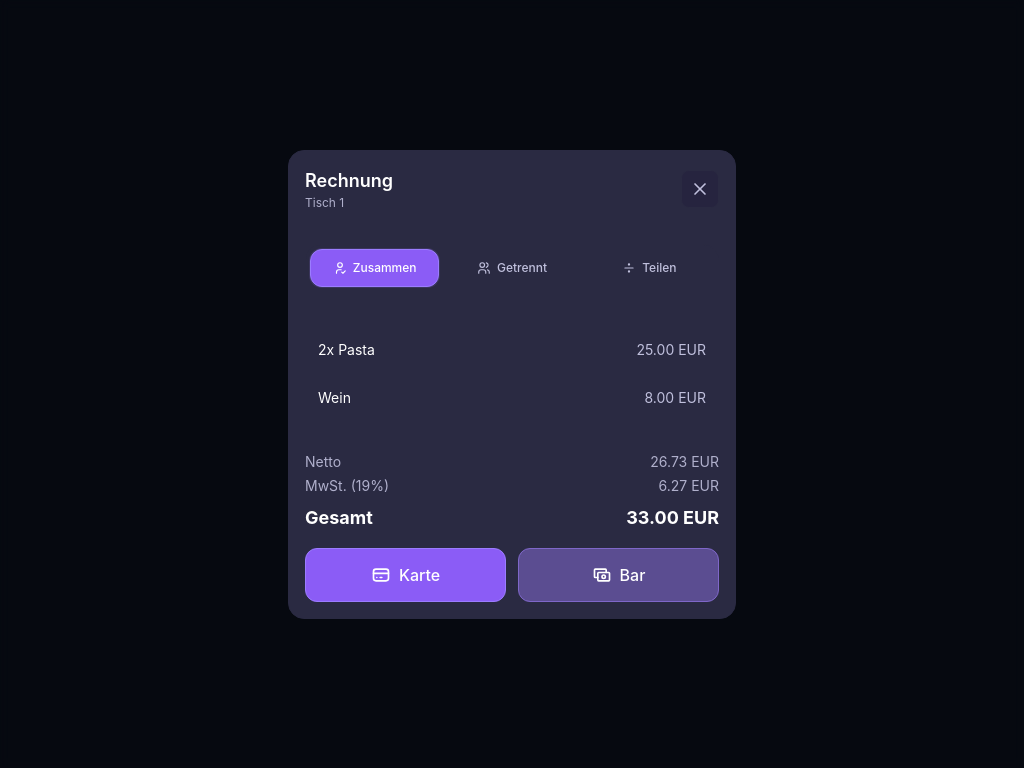
Scenario 1 — Combined Billing (full order → card payment → close) › 10% tip preset calculates correctly: 33.00 × 10% = 3.30 EUR
The width and height of the screenshot is (1024, 768).
Expected: the text "33.00 EUR" is shown, top-left (626, 504), bottom-right (719, 532)
What coordinates should you click on to do the following:
click the button "Karte"
I would click on:
 (406, 574)
Its box is top-left (305, 548), bottom-right (506, 602).
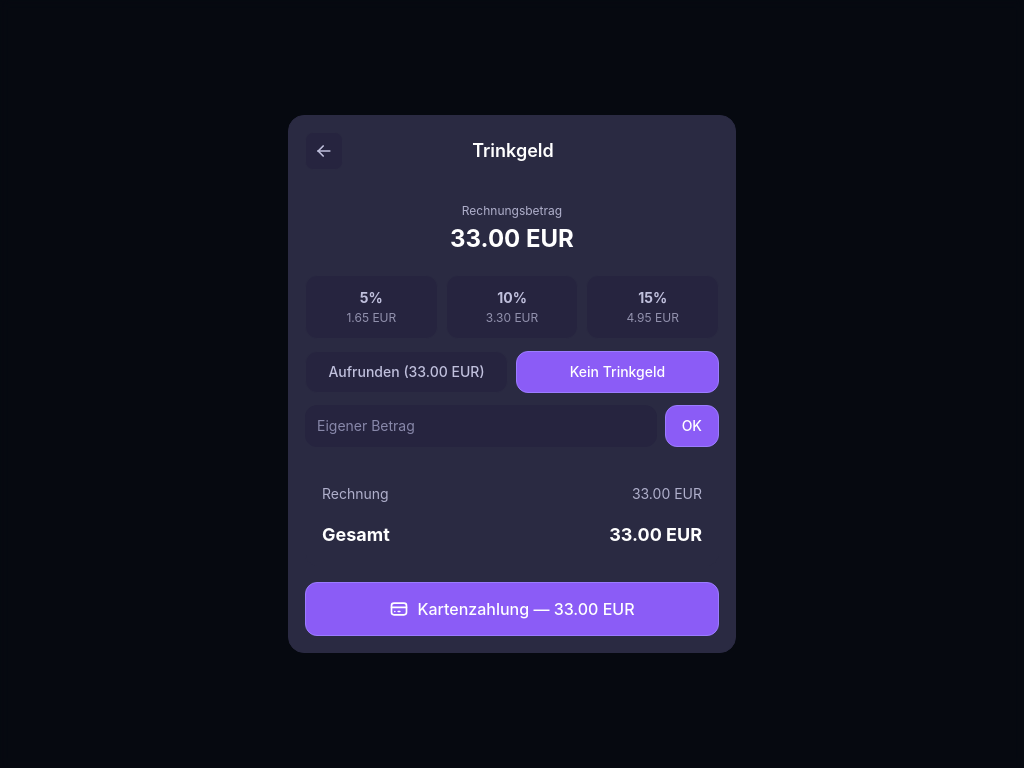
Expected: the heading "Trinkgeld" is shown, top-left (472, 137), bottom-right (554, 165)
# Click the 10% preset
What coordinates should you click on to do the following:
click the button "10% 3.30 EUR"
I would click on:
 (512, 307)
Its box is top-left (446, 275), bottom-right (578, 339).
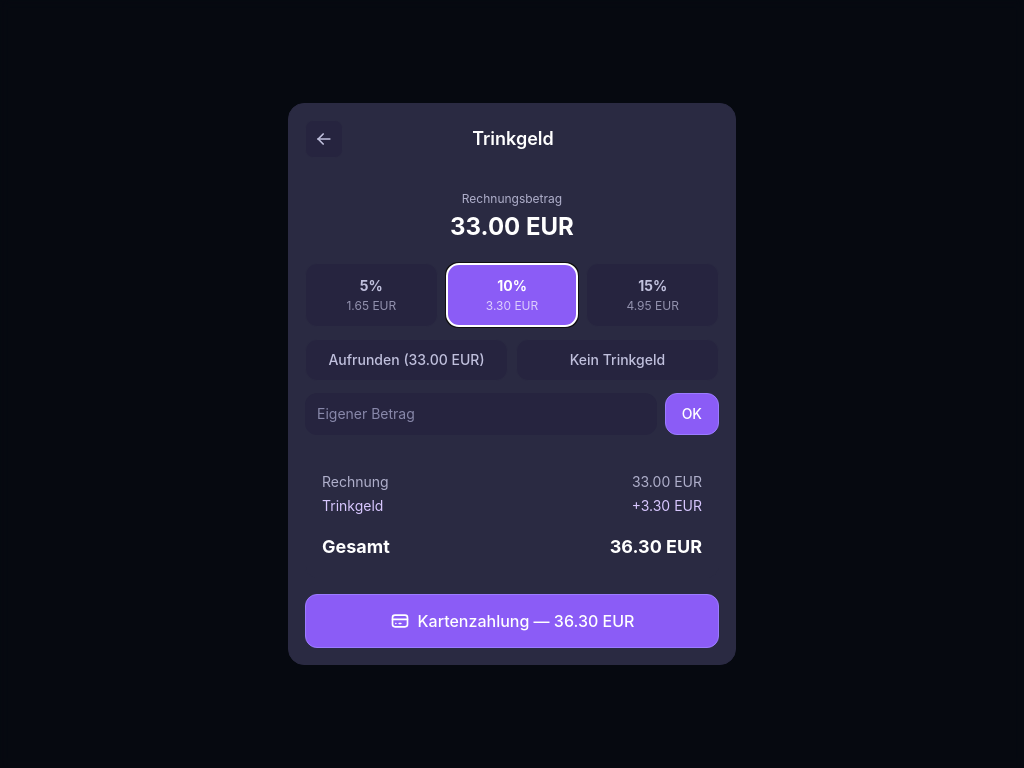
Expected: the text "+3.30 EUR" is shown, top-left (632, 496), bottom-right (702, 516)
Expected: the text "36.30 EUR" is shown, top-left (610, 533), bottom-right (702, 561)
